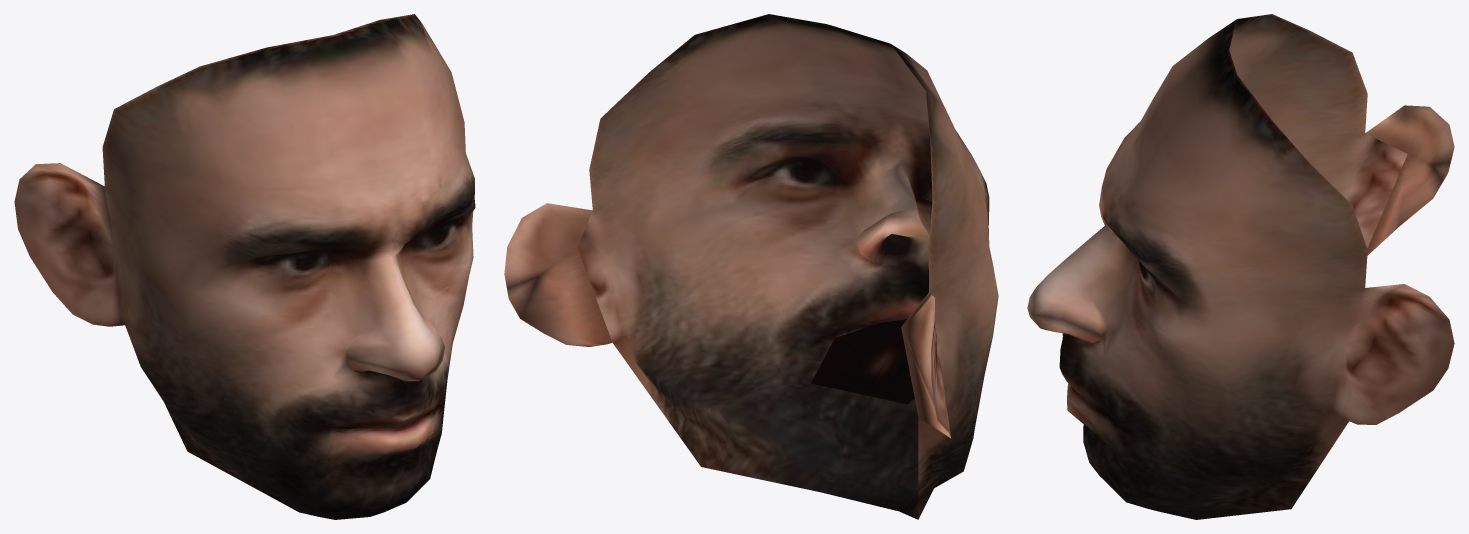
File: egy-salah.glb
3 renders of one model, left to right at view 1: azimuth 30°, elevation 25°; view 2: azimuth 150°, elevation 25°; view 3: azimuth 270°, elevation 25°, orthographic. The views are drawn at different scales.
Parts seen in each view (by area): view 1: egy-salah; view 2: egy-salah; view 3: egy-salah.
Boxes of the visible parts, x1=… form: egy-salah: x1=14, y1=14, x2=475, y2=519; egy-salah: x1=504, y1=14, x2=998, y2=519; egy-salah: x1=1027, y1=14, x2=1454, y2=519.
Size of the model in its own units: 0.1806 by 0.1968 by 0.166.
1 material, 1 textured.
